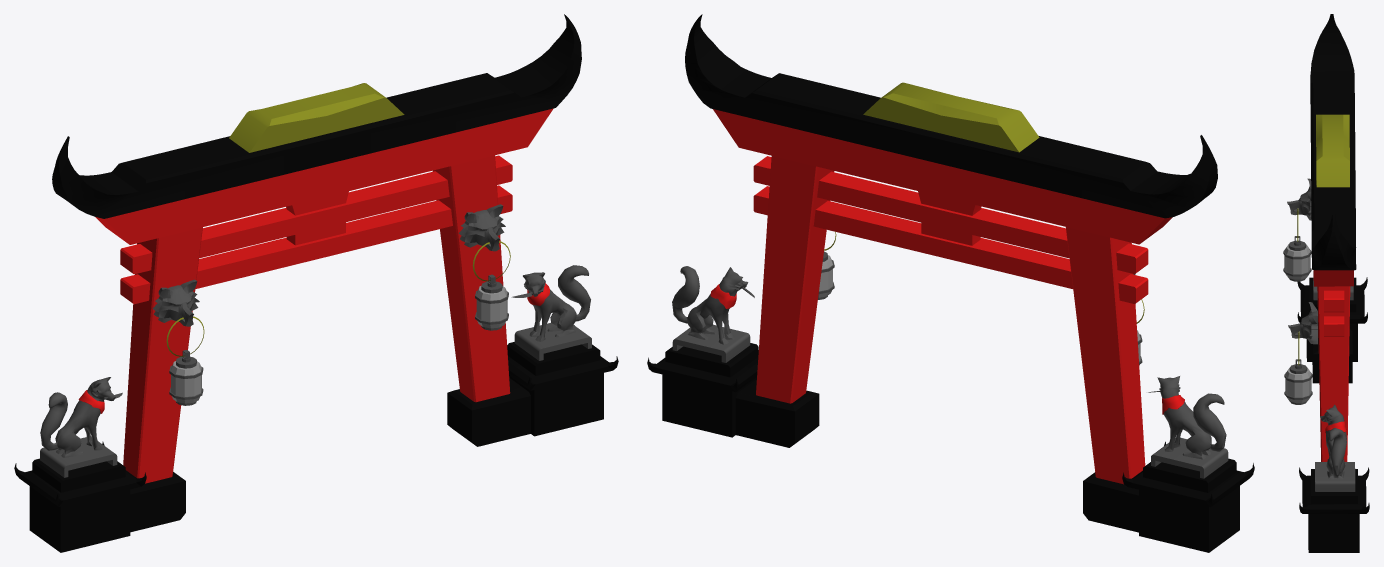
Rendered from schrein.FBX.
3 views of the same model, side by side, from view 1: azimuth 30°, elevation 25°; view 2: azimuth 150°, elevation 25°; view 3: azimuth 270°, elevation 25° (orthographic). The views are drawn at different scales.
Parts seen in each view (by area): view 1: schrein; view 2: schrein; view 3: schrein.
Boxes of the visible parts, x1,y1,x2,y2 form: schrein: [14, 14, 618, 552]; schrein: [647, 14, 1254, 552]; schrein: [1283, 14, 1369, 552].
Size of the model in its own units: 93.53 by 63.42 by 15.11.
